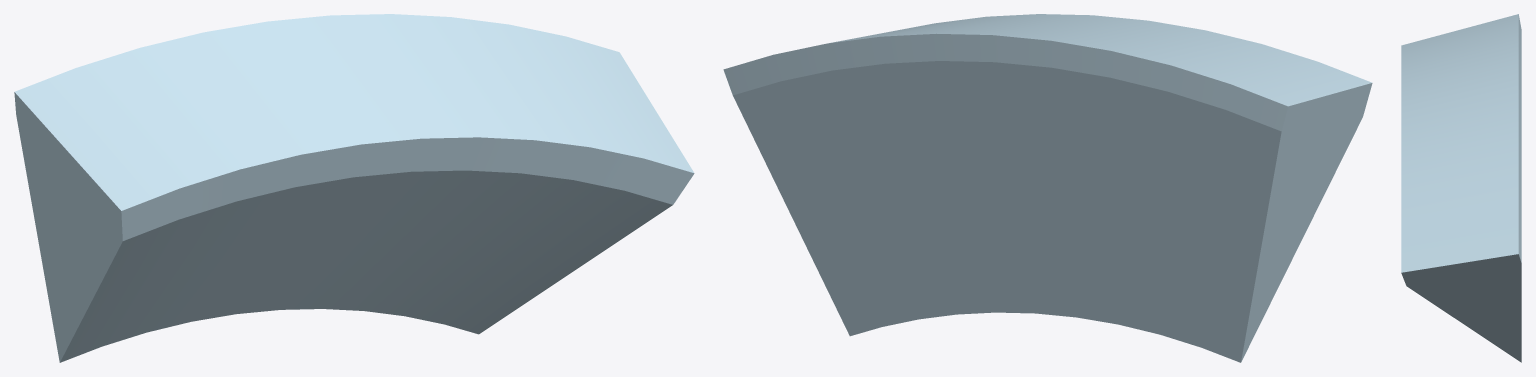
Rendered from Sub_9_Cell_3_3.gltf.
The picture shows the model from 3 angles, left to right: view 1: azimuth 30°, elevation 25°; view 2: azimuth 150°, elevation 25°; view 3: azimuth 270°, elevation 25°; orthographic projection. The views are drawn at different scales.
Visible parts, largest first — view 1: Sub_9_Cell_3_3; view 2: Sub_9_Cell_3_3; view 3: Sub_9_Cell_3_3.
Boxes of the visible parts, x1,y1,x2,y2 form: Sub_9_Cell_3_3: [14, 14, 694, 362]; Sub_9_Cell_3_3: [723, 14, 1372, 362]; Sub_9_Cell_3_3: [1401, 14, 1521, 362].
Bounding box in the file's own units: 0.1246 × 0.0732 × 0.0362.
